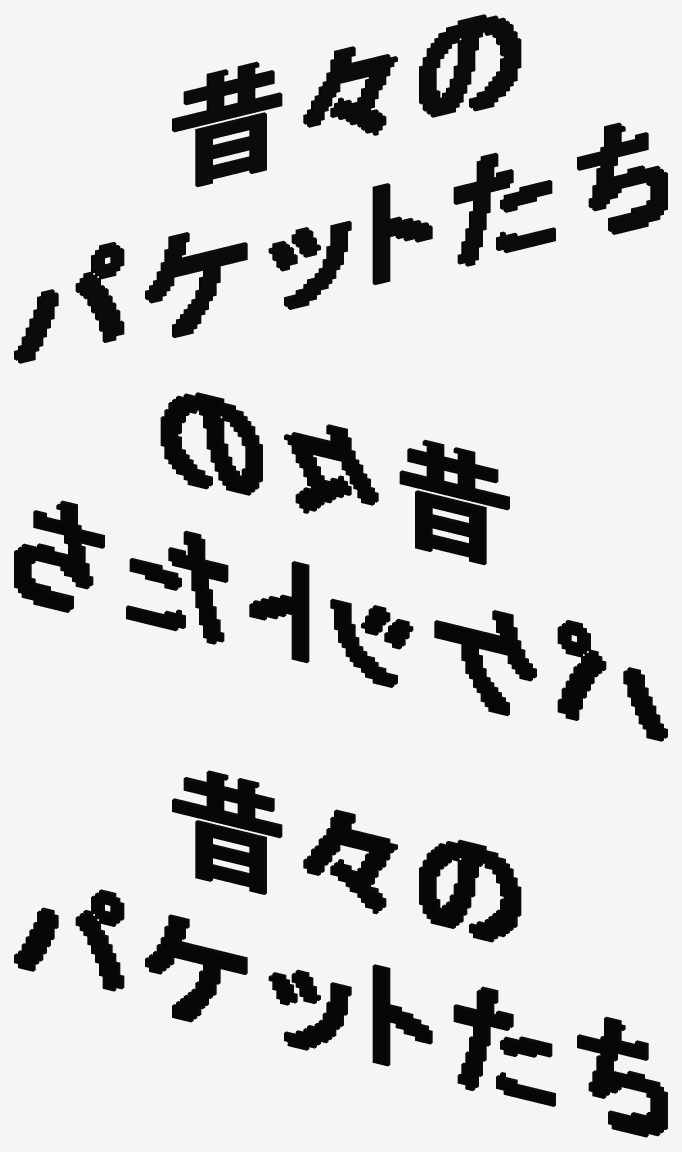
Rendered from GameTitle.obj.
The picture shows the model from 3 angles, top to bottom: view 1: azimuth 30°, elevation 25°; view 2: azimuth 150°, elevation 25°; view 3: azimuth 330°, elevation 25°; orthographic projection.
Bounding box in the file's own units: 16.9 × 6.4 × 0.1.
1 material, 1 textured.
